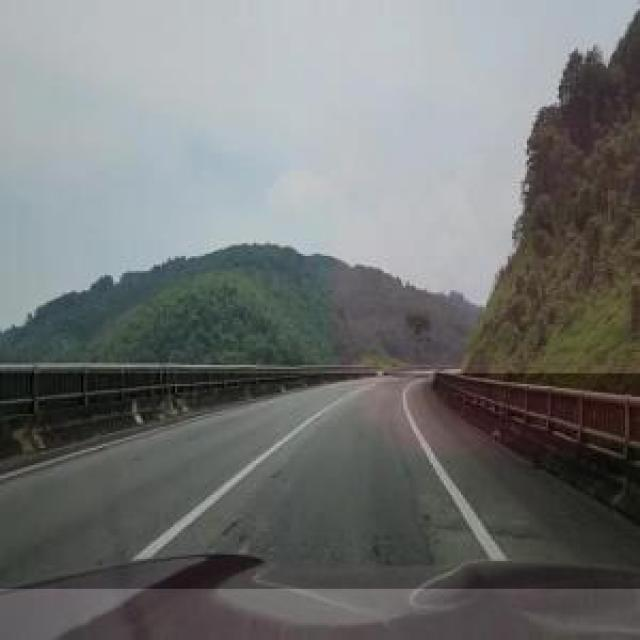clear-road: (0, 375, 640, 589)
